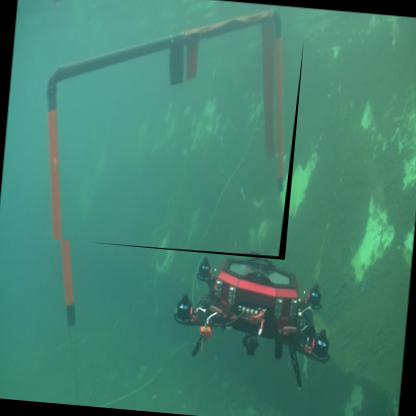gate: (30, 1, 310, 263)
